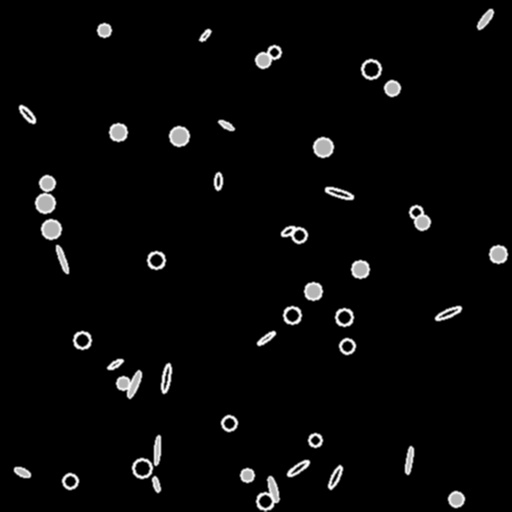pseudomonas: (125, 369, 143, 399), (286, 458, 310, 478), (435, 305, 461, 321), (476, 8, 494, 30), (325, 186, 353, 200), (55, 245, 69, 273), (327, 465, 343, 489), (18, 104, 36, 124), (256, 330, 276, 346), (267, 476, 279, 502), (161, 364, 171, 392), (404, 447, 414, 473), (13, 465, 31, 479), (153, 435, 161, 465), (280, 224, 296, 238), (198, 28, 212, 42), (107, 358, 123, 370), (218, 119, 234, 131), (214, 172, 222, 190), (152, 476, 160, 492)
synechocystis: (133, 459, 151, 477), (42, 220, 60, 238), (314, 138, 332, 156), (362, 60, 380, 78), (170, 127, 188, 145), (36, 194, 54, 212), (148, 252, 164, 268), (284, 307, 300, 323), (74, 332, 90, 348), (110, 124, 126, 140), (336, 309, 352, 325), (257, 493, 273, 509), (490, 246, 506, 262), (352, 261, 368, 277), (305, 283, 321, 299), (449, 492, 463, 506), (222, 416, 236, 430), (256, 53, 270, 67), (292, 228, 306, 242), (385, 81, 399, 95), (63, 474, 77, 488), (40, 176, 54, 190), (415, 215, 429, 229), (340, 339, 354, 353), (98, 24, 110, 36), (309, 434, 321, 446), (410, 206, 422, 218), (241, 469, 253, 481), (117, 377, 129, 389), (268, 46, 280, 58)
